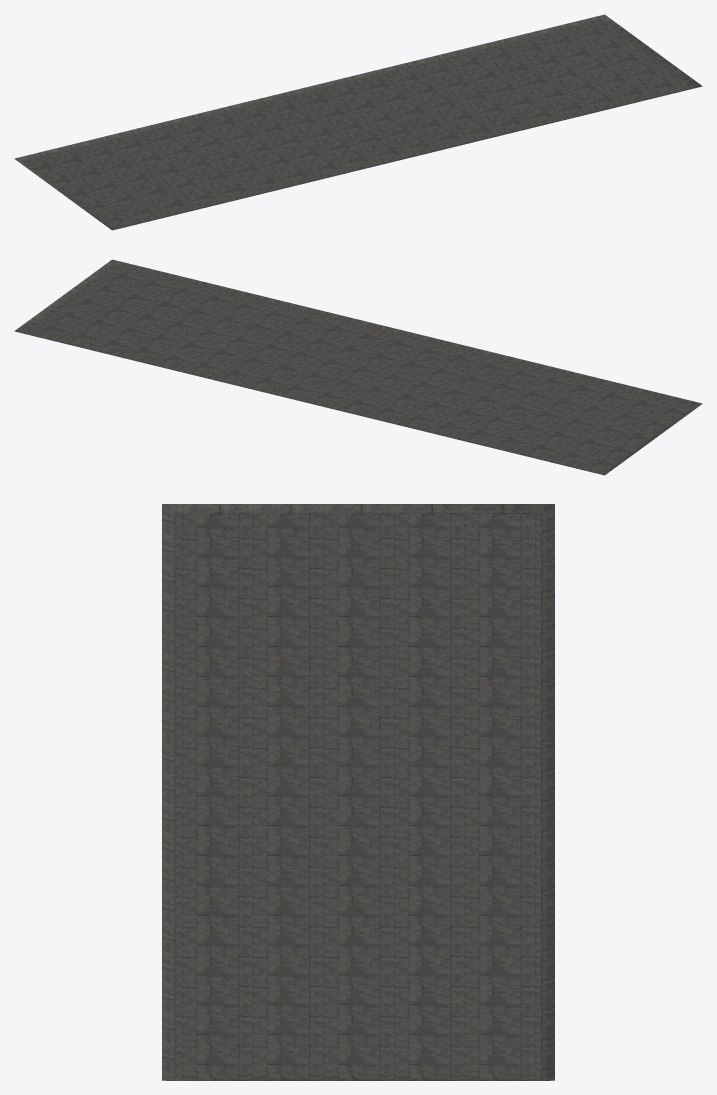
File: apartments_complex_roof_b.glb
3 renders of one model, top to bottom at view 1: azimuth 30°, elevation 25°; view 2: azimuth 150°, elevation 25°; view 3: azimuth 270°, elevation 25°, orthographic. The views are drawn at different scales.
Parts seen in each view (by area): view 1: apartments_complex_roof_b_LOD0; view 2: apartments_complex_roof_b_LOD0; view 3: apartments_complex_roof_b_LOD0.
Boxes of the visible parts, left/top/right/bottom form: apartments_complex_roof_b_LOD0: left=14, top=14, right=702, bottom=230; apartments_complex_roof_b_LOD0: left=14, top=259, right=702, bottom=475; apartments_complex_roof_b_LOD0: left=162, top=504, right=554, bottom=1080.
Size of the model in its own units: 77.26 by 0.2499 by 22.25.
Materials: 1 (1 with a texture image).
